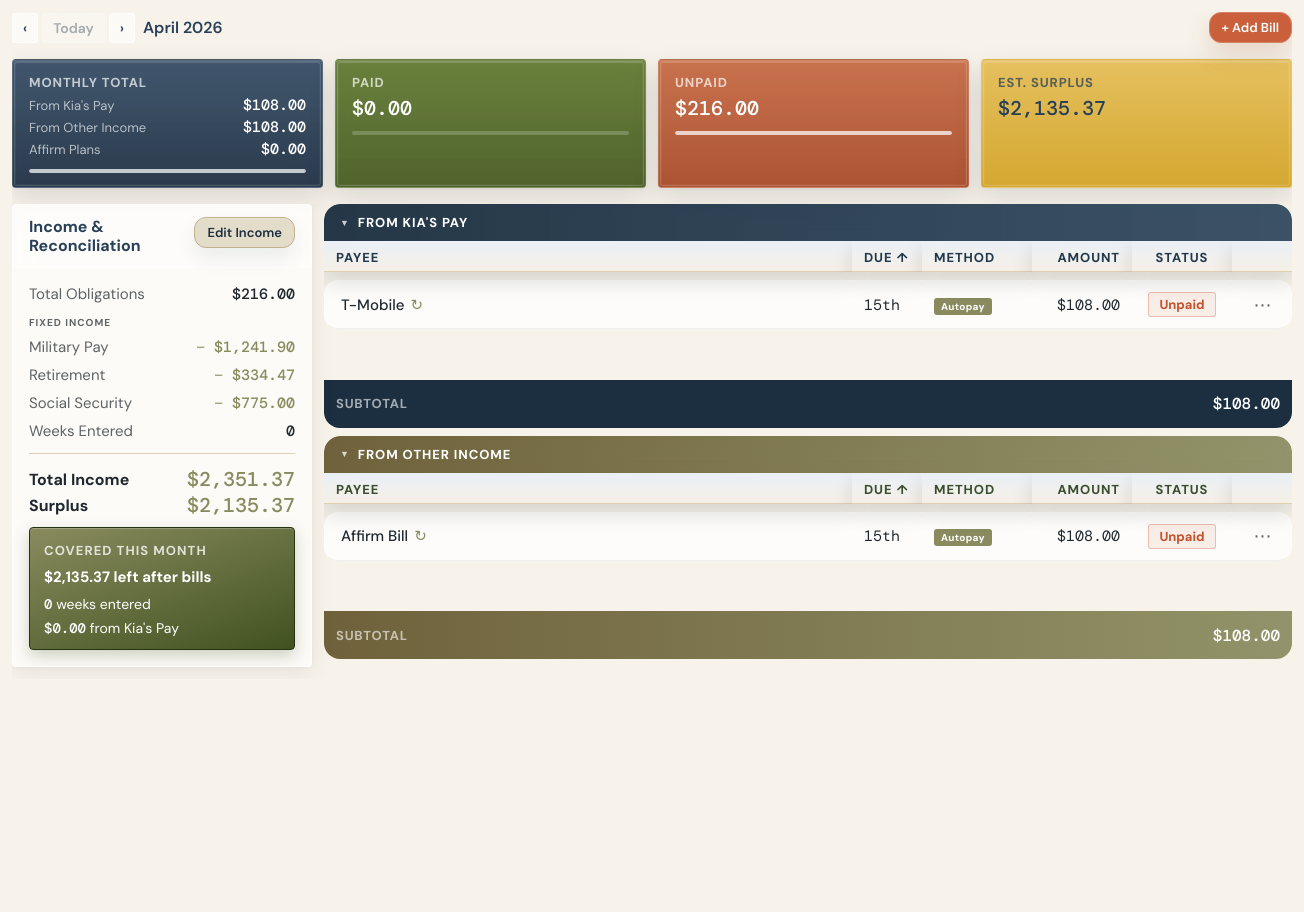
it: AccountsTab — BillGroup collapse toggle › from both-expanded, clicking Kia collapses Kia only
The image size is (1304, 912).
Click the button "▼ From Kia's Pay". click: (413, 222)
box: [324, 204, 1292, 241]
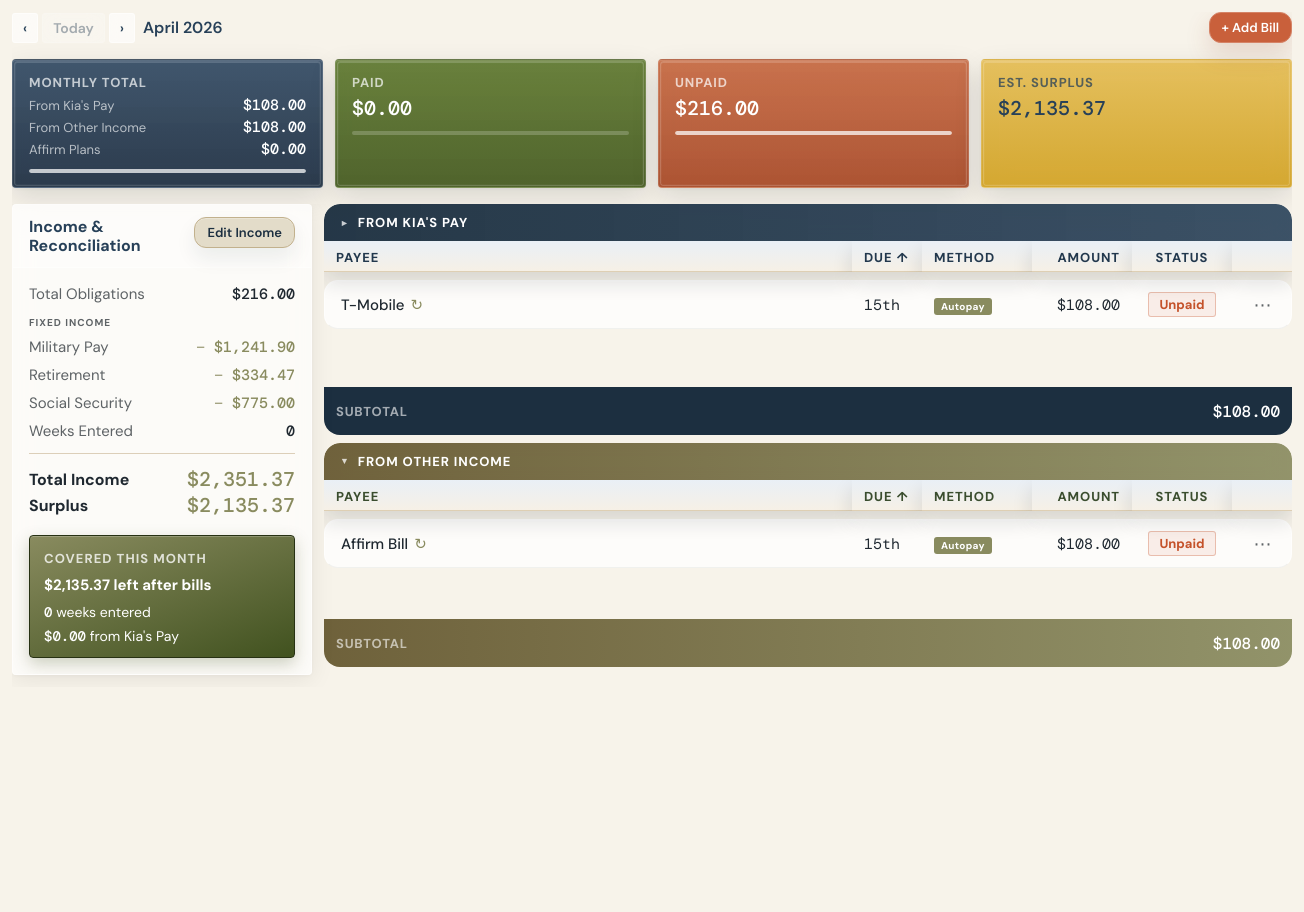
Check: the button "▼ From Other Income" is shown, box [324, 443, 1292, 480]
Check: the button "► From Kia's Pay" is shown, box [324, 204, 1292, 241]
